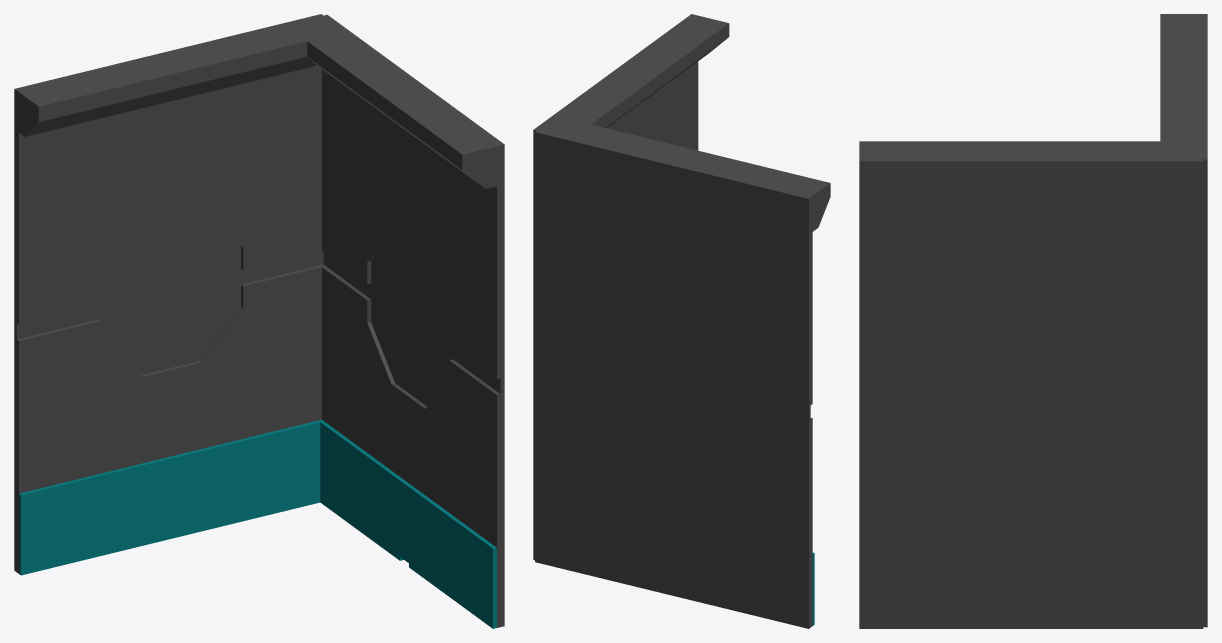
Rendered from Sci Fi Wall Corner 3.glb.
3 renders of one model, left to right at view 1: azimuth 30°, elevation 25°; view 2: azimuth 150°, elevation 25°; view 3: azimuth 270°, elevation 25°, orthographic. The views are drawn at different scales.
Parts seen in each view (by area): view 1: Wall.001, Wall, Wall_Panel, Wall_Panel.001, Triangle_Connecter, Triangle_Connecter.001; view 2: Wall.001, Triangle_Connecter.001, Wall, Triangle_Connecter; view 3: Wall, Triangle_Connecter, Triangle_Connecter.001, Wall.001.
Boxes of the visible parts, x1,y1,x2,y2 form: Wall.001: (14,14,323,573); Wall: (320,14,504,627); Wall_Panel: (19,419,323,575); Wall_Panel.001: (320,421,496,628); Triangle_Connecter: (16,16,345,136); Triangle_Connecter.001: (288,18,500,188); Wall.001: (535,130,812,628); Triangle_Connecter.001: (541,15,729,138); Wall: (533,14,698,559); Triangle_Connecter: (540,117,830,232); Wall: (859,157,1203,628); Triangle_Connecter: (1160,14,1203,159); Triangle_Connecter.001: (859,141,1202,159); Wall.001: (1199,14,1207,627).
Bounding box in the file's own units: 4.05 × 6 × 4.05.
